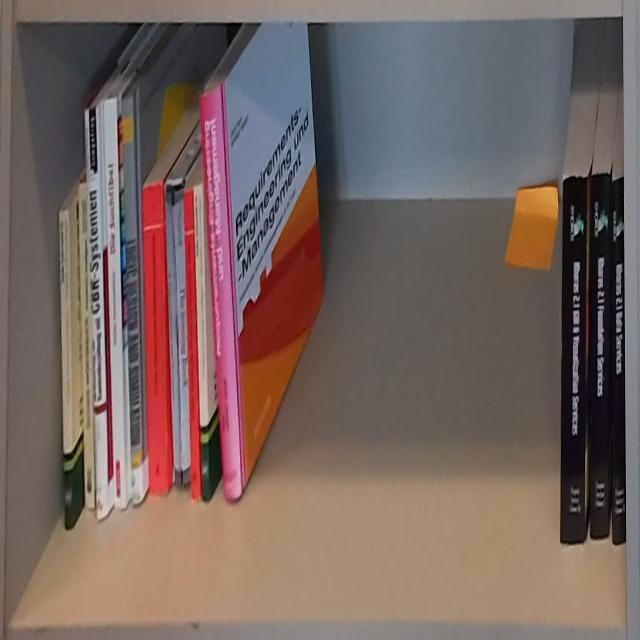Book Spine: (199, 85, 244, 503), (103, 97, 128, 510), (84, 107, 108, 521), (561, 176, 588, 544), (123, 95, 143, 504), (144, 183, 170, 492), (591, 172, 611, 541), (174, 186, 192, 487), (184, 188, 201, 501), (58, 210, 74, 530), (194, 185, 210, 502), (80, 183, 95, 511), (613, 178, 626, 547), (166, 183, 181, 488)
